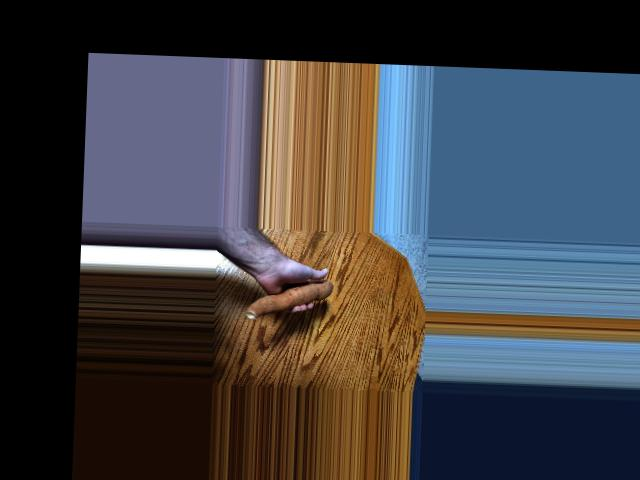sweet_potato: (243, 276, 333, 321)
